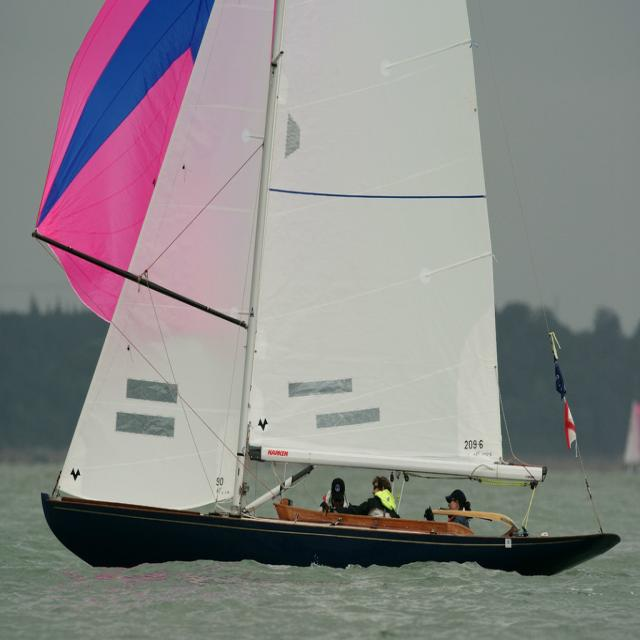Boat: (41, 0, 598, 604)
